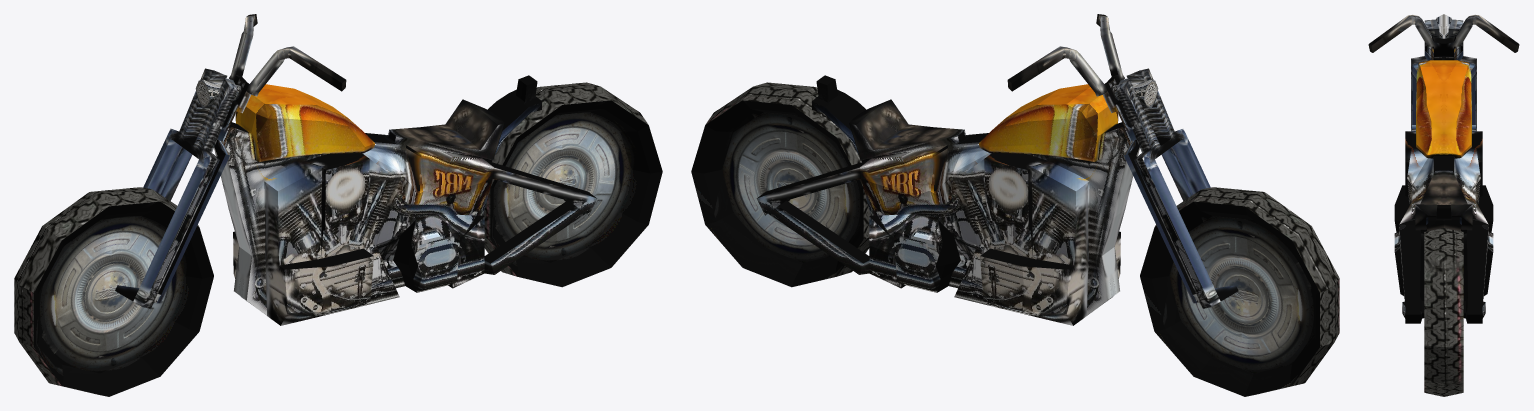
Rendered from New-Bike.glb.
3 renders of one model, left to right at view 1: azimuth 30°, elevation 25°; view 2: azimuth 150°, elevation 25°; view 3: azimuth 270°, elevation 25°, orthographic. The views are drawn at different scales.
Visible parts, largest first — view 1: Frame, Torus, Torus.002, Fork; view 2: Frame, Torus, Torus.002, Fork; view 3: Frame, Torus.002, Fork.
Boxes of the visible parts, x1,y1,x2,y2 form: Frame: (214, 75, 597, 325); Torus: (14, 187, 213, 396); Torus.002: (483, 82, 662, 287); Fork: (115, 14, 346, 308); Frame: (756, 75, 1139, 325); Torus: (1140, 187, 1339, 396); Torus.002: (691, 82, 870, 287); Fork: (1007, 14, 1238, 308); Frame: (1394, 60, 1493, 323); Torus.002: (1424, 228, 1463, 396); Fork: (1368, 14, 1519, 131).
Size of the model in its own units: 4.97 by 2.4 by 1.27.
Materials: 3 (3 with a texture image).
